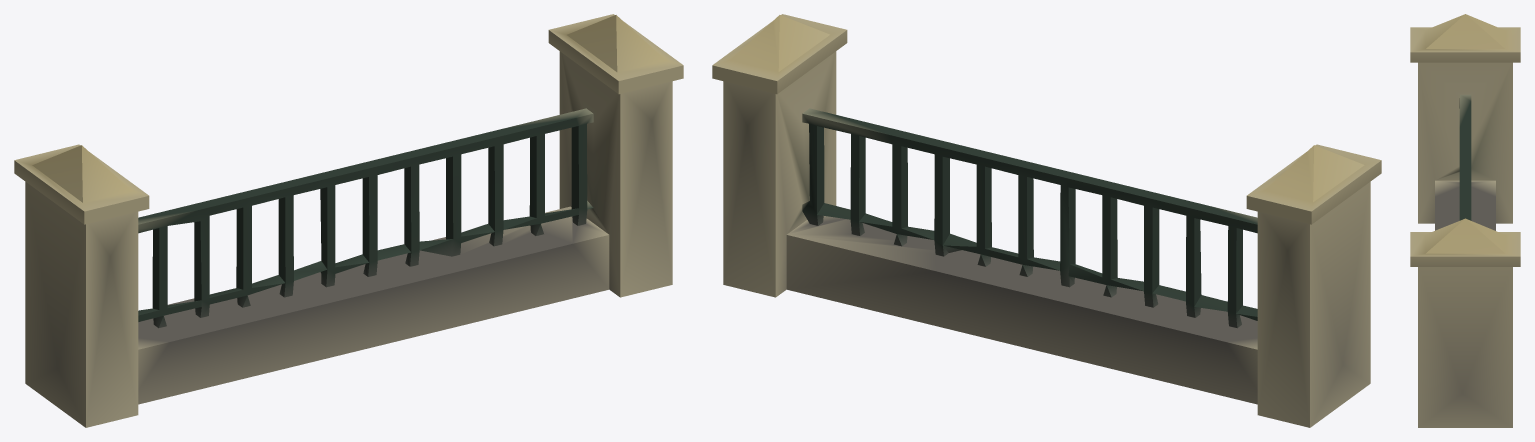
File: hang_rao_khach_san_grand.far.glb
3 renders of one model, left to right at view 1: azimuth 30°, elevation 25°; view 2: azimuth 150°, elevation 25°; view 3: azimuth 270°, elevation 25°, orthographic. The views are drawn at different scales.
Visible parts, largest first — view 1: hang_rao_khach_san_grand; view 2: hang_rao_khach_san_grand; view 3: hang_rao_khach_san_grand.
Part boxes in pixels (x1,y1,x2,y2): hang_rao_khach_san_grand: (14,14,683,427); hang_rao_khach_san_grand: (712,14,1381,427); hang_rao_khach_san_grand: (1410,14,1520,427).
Size of the model in its own units: 2.86 by 1.16 by 0.58.
